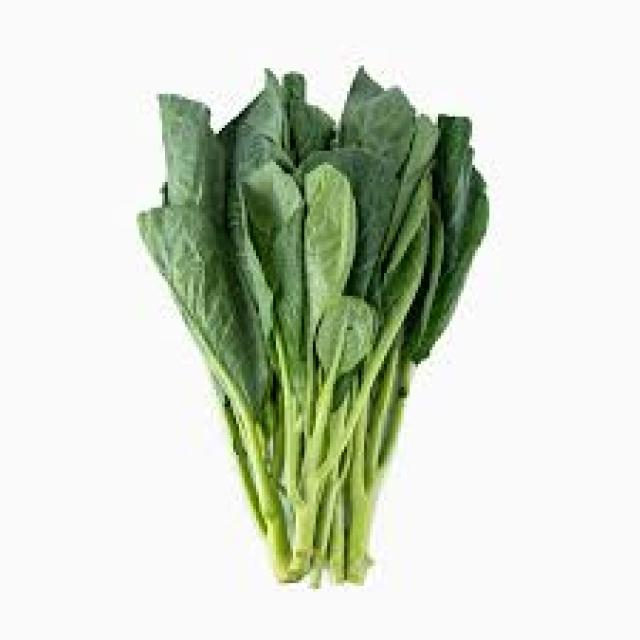collard: (143, 61, 493, 584)
